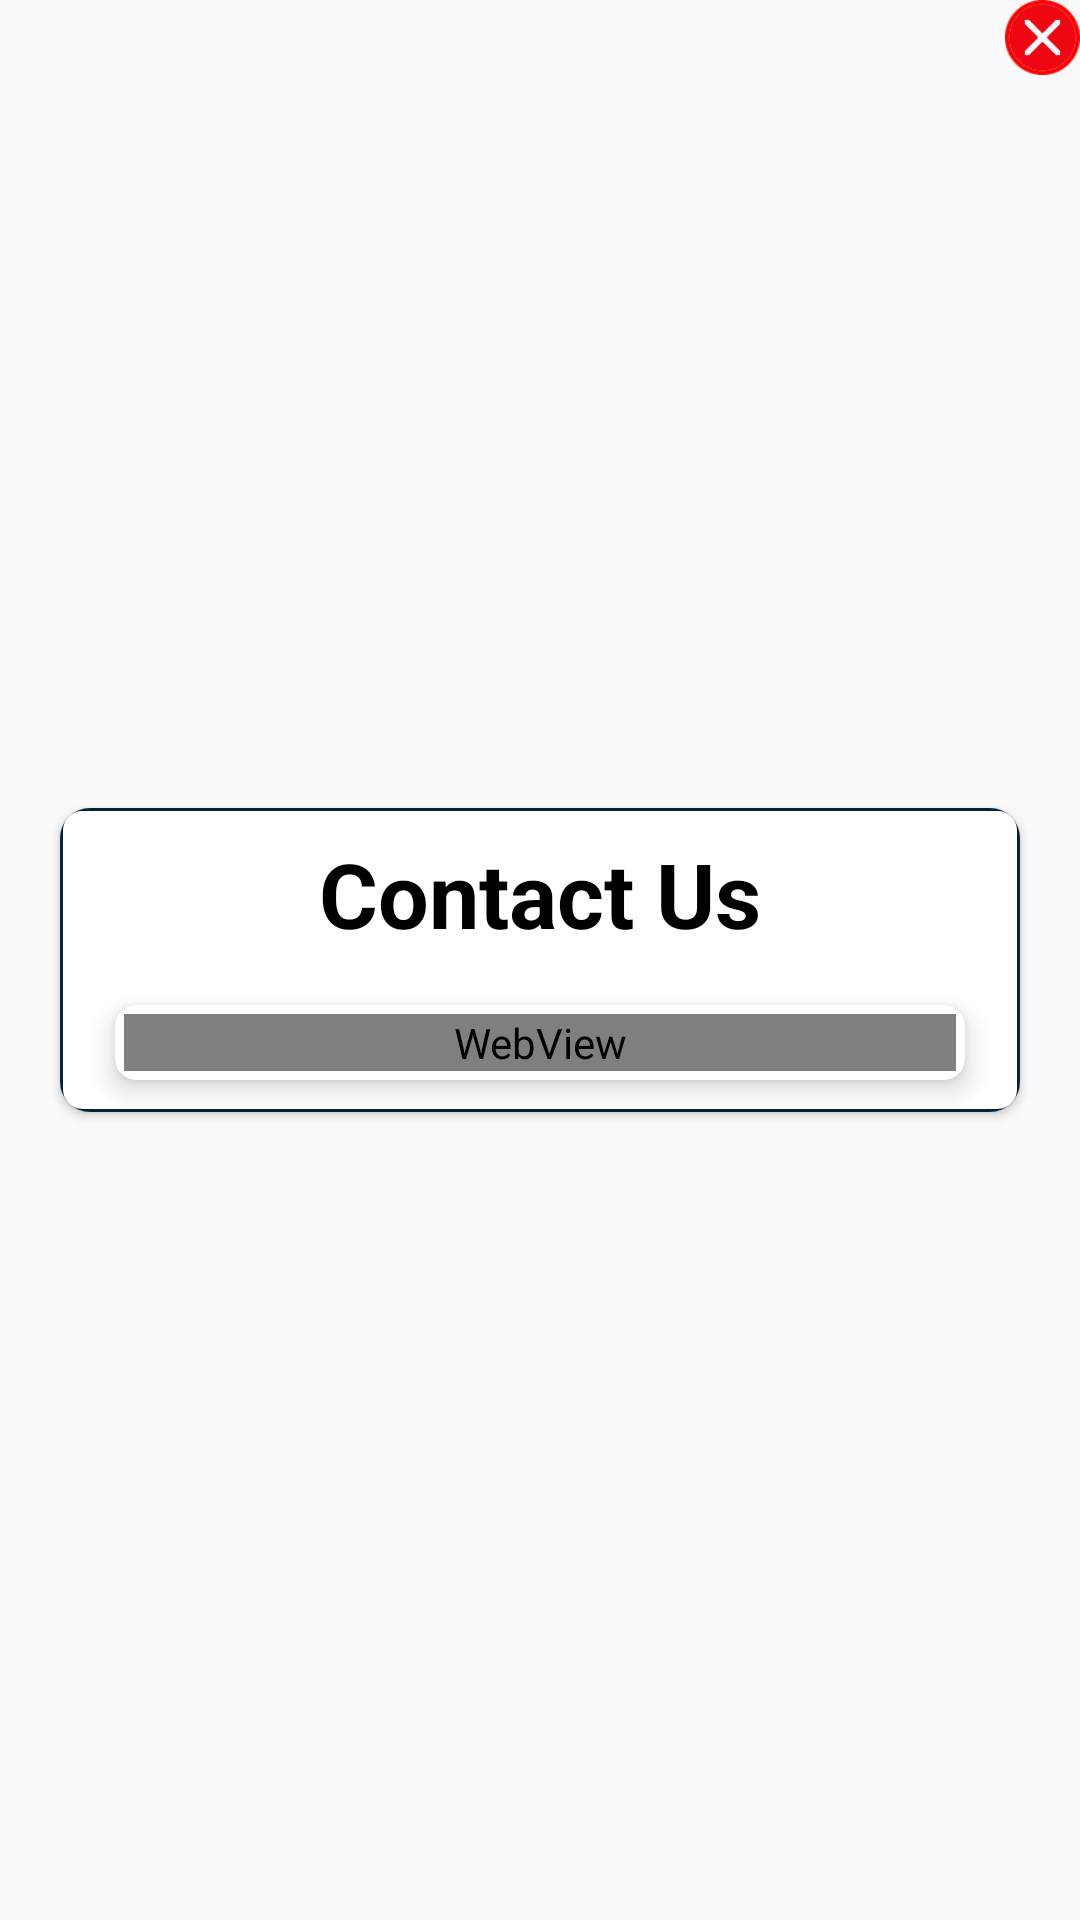

Locate icon controls on the screen. Image size 1080 × 1920, boxes as box(x1, y1, x2, y2).
wrong: box(1005, 0, 1080, 75)
